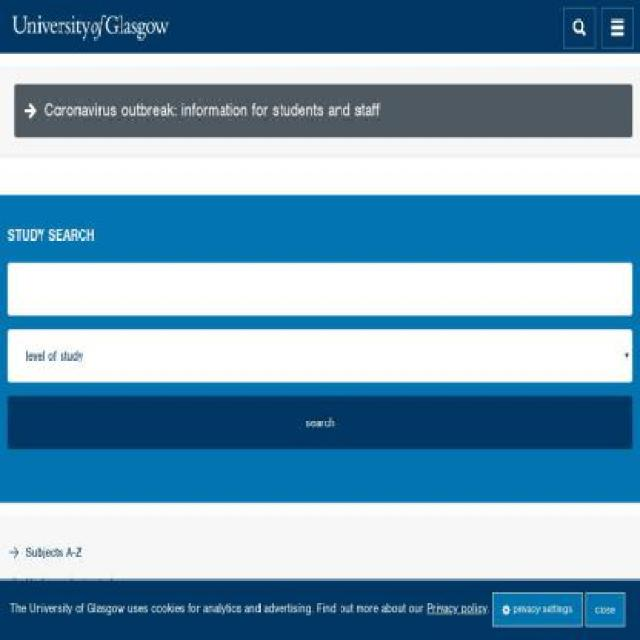button: (0, 0, 385, 54), (25, 542, 632, 564), (25, 572, 632, 594), (25, 603, 632, 625), (492, 592, 583, 626), (25, 635, 633, 639), (584, 592, 624, 626), (601, 7, 634, 48), (563, 7, 595, 48)
field: (7, 262, 633, 316), (7, 329, 633, 383), (7, 396, 633, 450)
